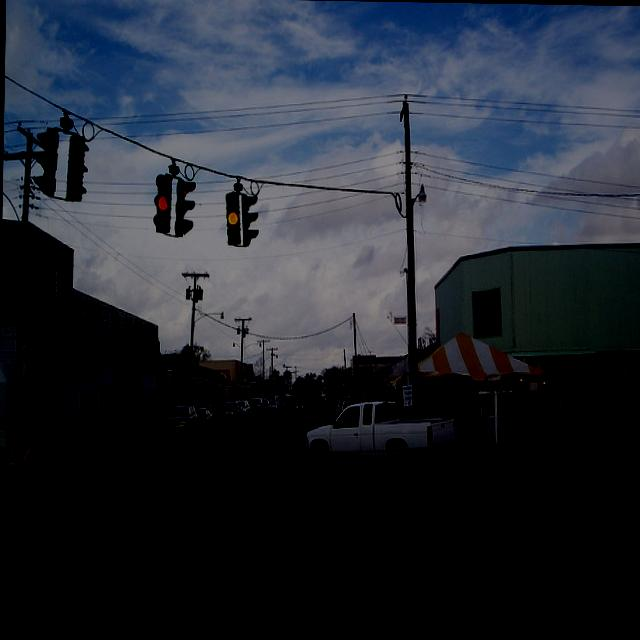Vehicle: (304, 397, 460, 470), (162, 405, 200, 438), (216, 401, 243, 426), (194, 408, 214, 432), (334, 397, 358, 416), (338, 398, 362, 415), (248, 397, 264, 419), (248, 398, 265, 418), (236, 399, 251, 420), (261, 398, 272, 415), (270, 398, 278, 414), (329, 400, 338, 414), (295, 398, 304, 411)
